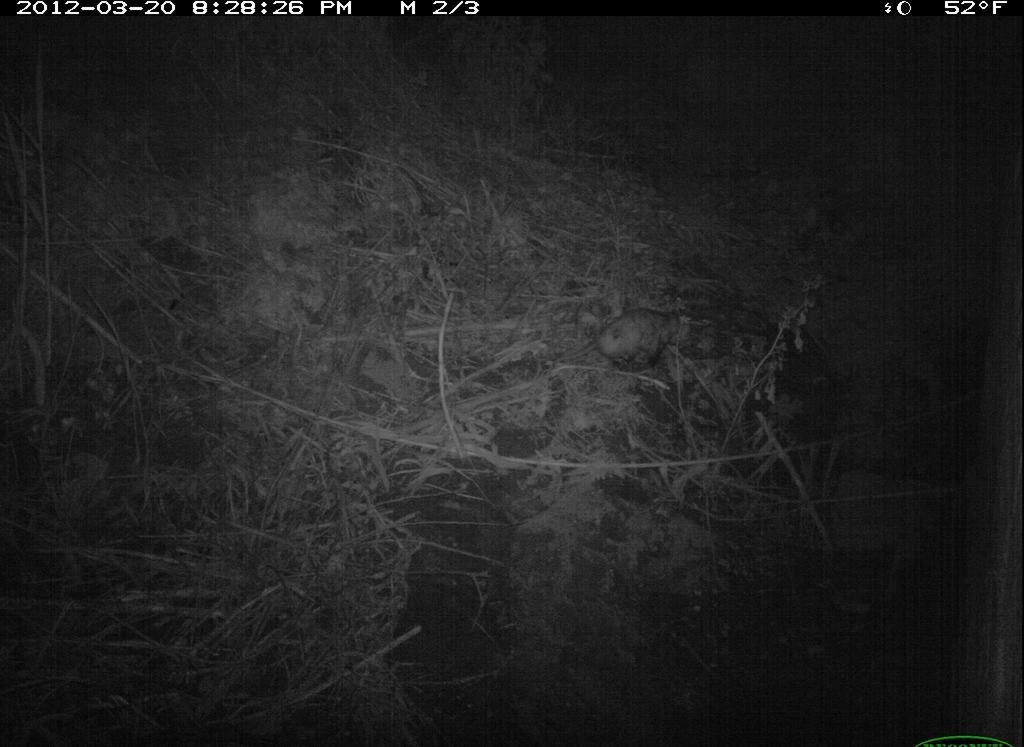opossum: (559, 301, 690, 376)
